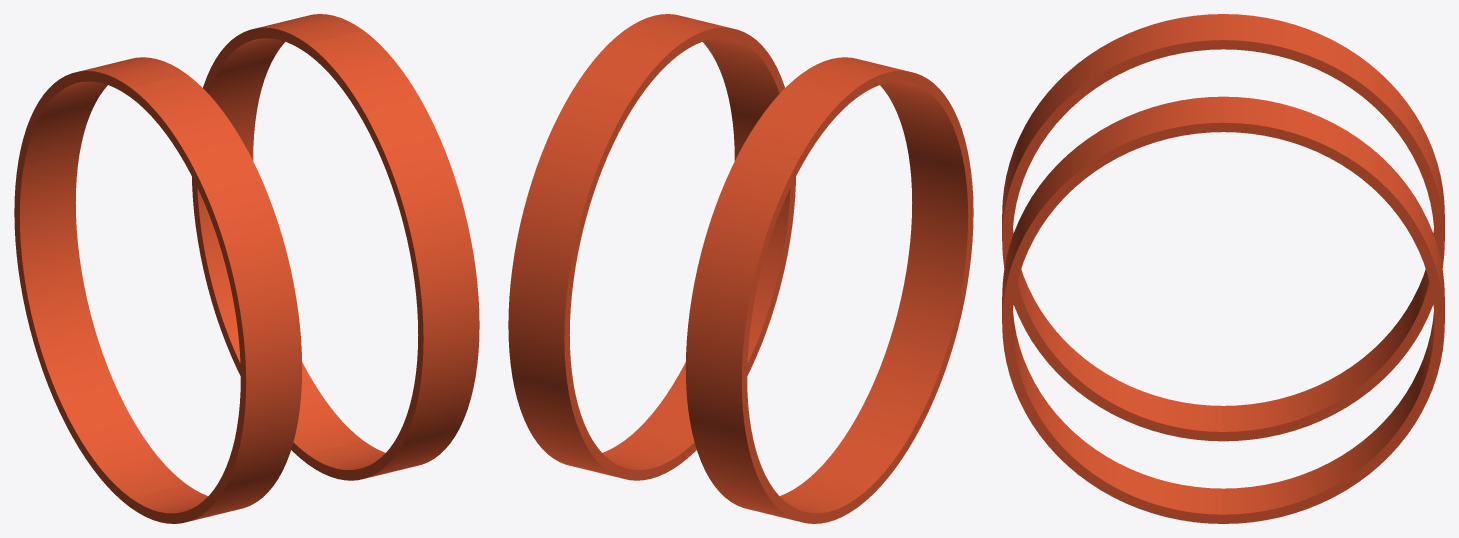
Rendered from expansion_coupling_pressure.glb.
3 views of the same model, side by side, from view 1: azimuth 30°, elevation 25°; view 2: azimuth 150°, elevation 25°; view 3: azimuth 270°, elevation 25° (orthographic). The views are drawn at different scales.
Visible parts, largest first — view 1: pressure__front, pressure__back; view 2: pressure__back, pressure__front; view 3: pressure__back, pressure__front.
Part boxes in pixels (x1,y1,x2,y2): pressure__front: [130, 30, 479, 523]; pressure__back: [14, 14, 363, 506]; pressure__back: [508, 30, 857, 523]; pressure__front: [624, 14, 973, 506]; pressure__back: [1223, 14, 1444, 523]; pressure__front: [1002, 14, 1223, 523].
Bounding box in the file's own units: 0.1 × 0.172 × 0.172.
